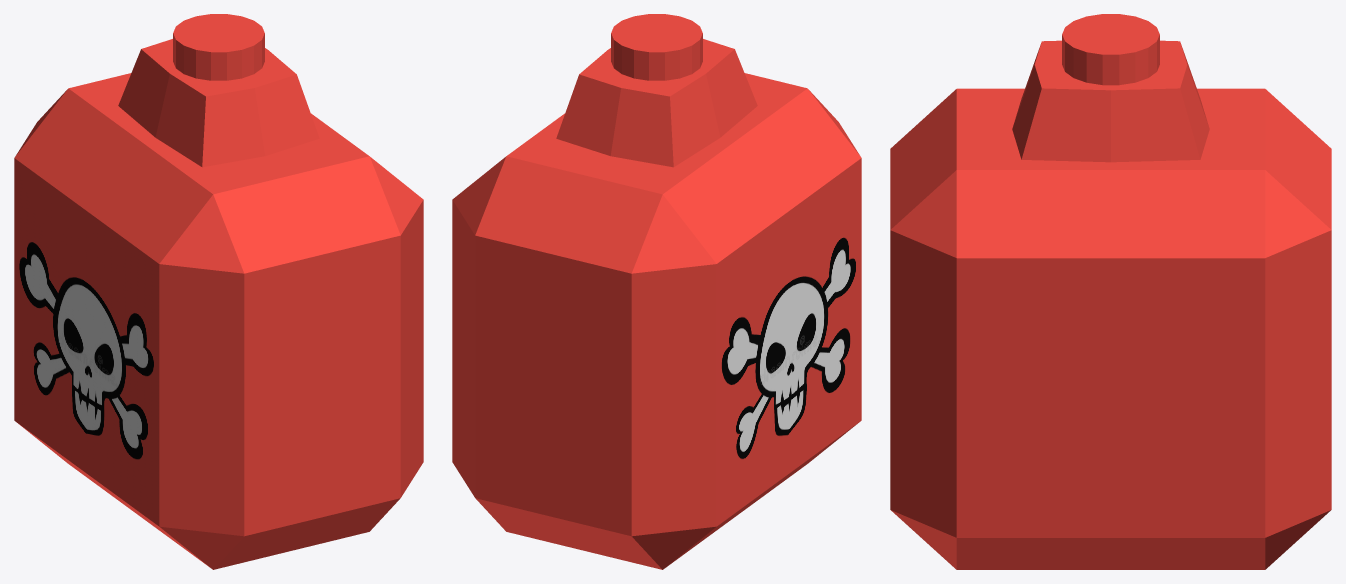
Rendered from ItemBottle.fbx.
The picture shows the model from 3 angles, left to right: view 1: azimuth 30°, elevation 25°; view 2: azimuth 150°, elevation 25°; view 3: azimuth 270°, elevation 25°; orthographic projection. The views are drawn at different scales.
Visible parts, largest first — view 1: Cube.001, Cube.002, Cylinder; view 2: Cube.001, Cube.002, Cylinder; view 3: Cube.001, Cube.002, Cylinder.
Part boxes in pixels (box(x1,y1,x2,y2)): Cube.001: box(14, 73, 423, 569); Cube.002: box(118, 39, 319, 167); Cylinder: box(173, 14, 264, 80); Cube.001: box(452, 73, 861, 569); Cube.002: box(556, 39, 757, 167); Cylinder: box(611, 14, 702, 80); Cube.001: box(890, 88, 1331, 569); Cube.002: box(1012, 40, 1209, 162); Cylinder: box(1062, 14, 1159, 85).
Size of the model in its own units: 0.6182 by 1.04 by 0.8393.
